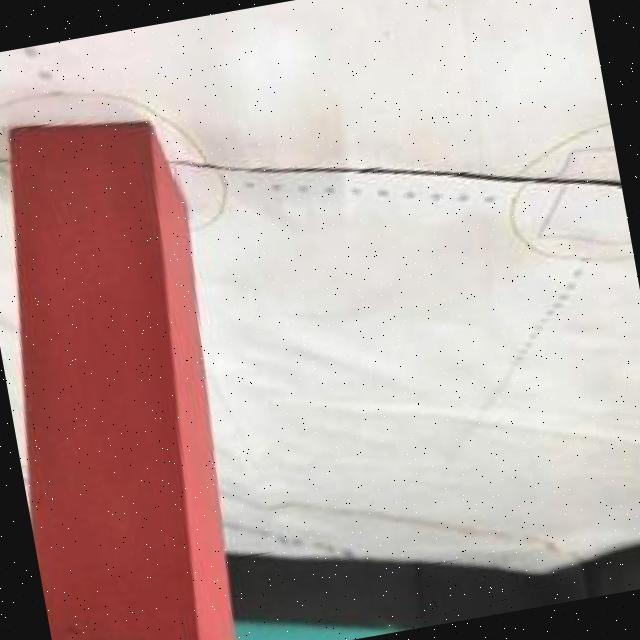redbox: (0, 117, 237, 640)
